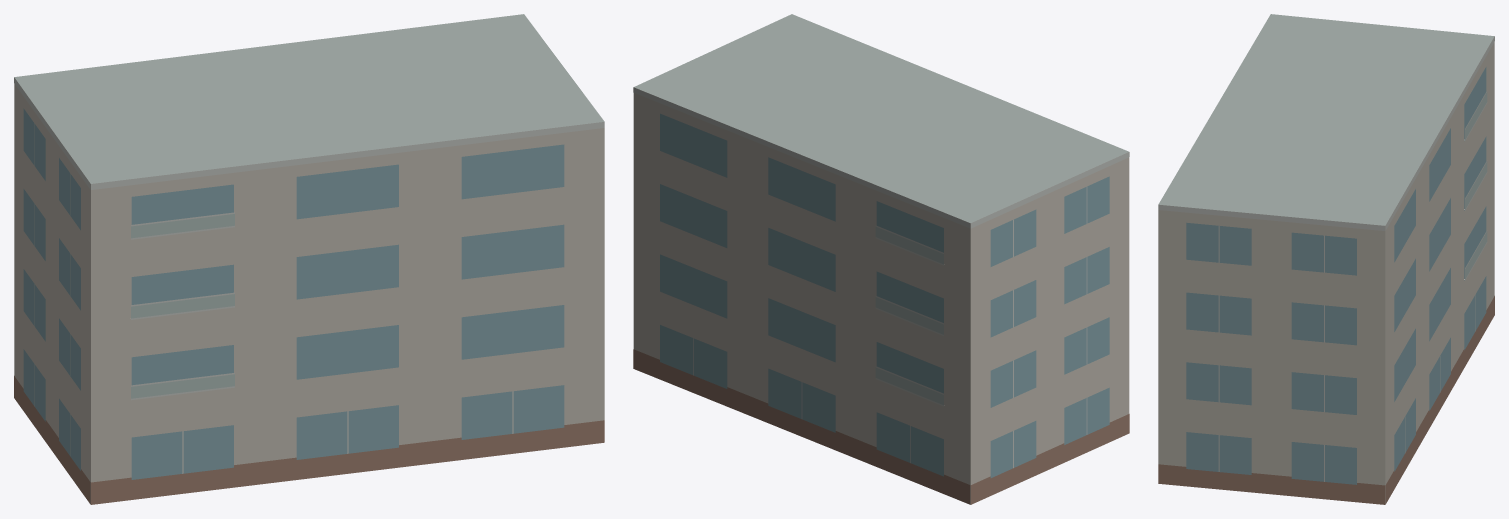
The model's file is survey-upis-32703938.glb.
3 renders of one model, left to right at view 1: azimuth 30°, elevation 25°; view 2: azimuth 150°, elevation 25°; view 3: azimuth 270°, elevation 25°, orthographic. The views are drawn at different scales.
Parts seen in each view (by area): view 1: survey-upis-32703938.tmp; view 2: survey-upis-32703938.tmp; view 3: survey-upis-32703938.tmp.
Boxes of the visible parts, <box> form: survey-upis-32703938.tmp: <box>14,14,604,504</box>; survey-upis-32703938.tmp: <box>633,14,1129,504</box>; survey-upis-32703938.tmp: <box>1158,14,1494,504</box>.
Bounding box in the file's own units: 20.85 × 12.8 × 14.
